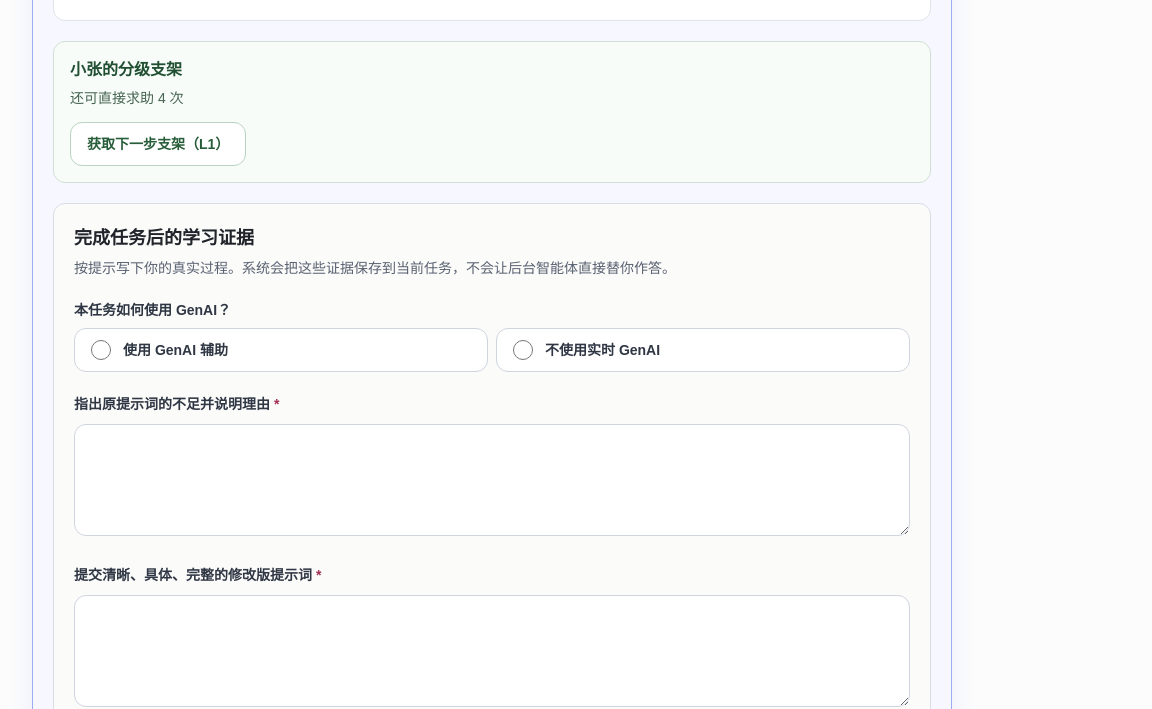
Test case: learning page components › does not offer a failed temporary assistant bubble as an AI acceptance target
(page scrolled)
What coordinates should you click on to do the following:
click the radio button labelled "使用 GenAI 辅助"
I would click on:
 (101, 350)
Its box is 91,340 -> 111,360.
(page scrolled)
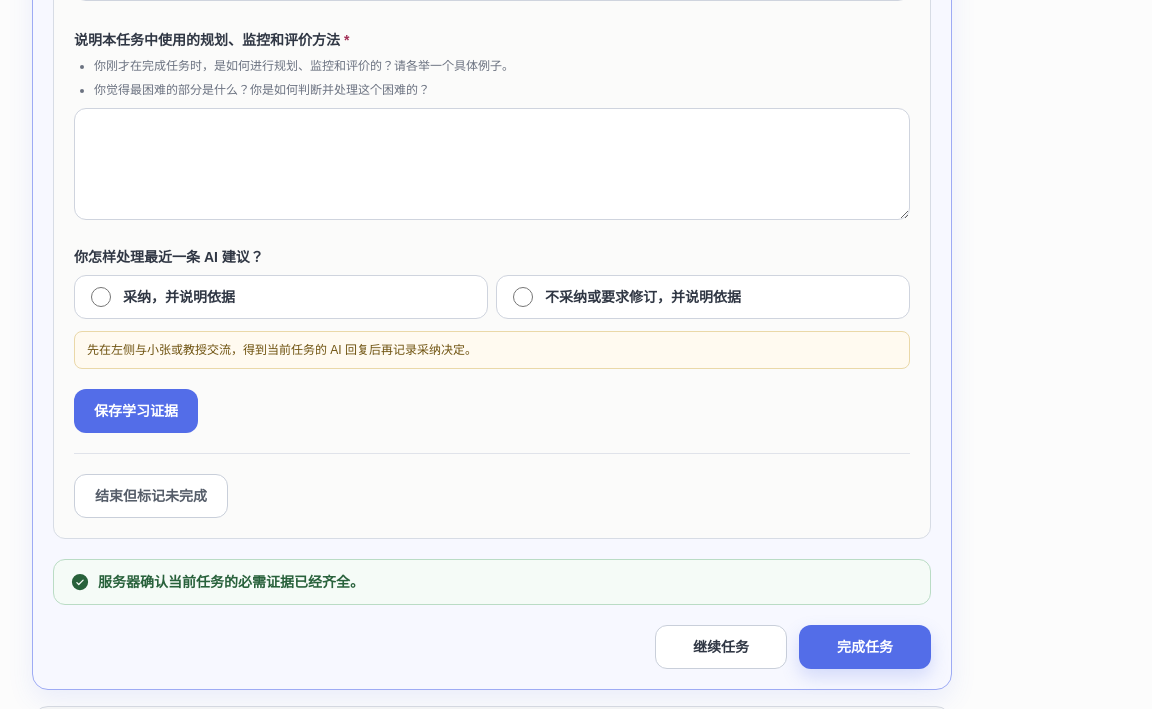
expect the text "先在左侧与小张或教授交流，得到当前任务的 AI 回复后再记录采纳决定。" is shown: met, box 74,330 -> 910,368
